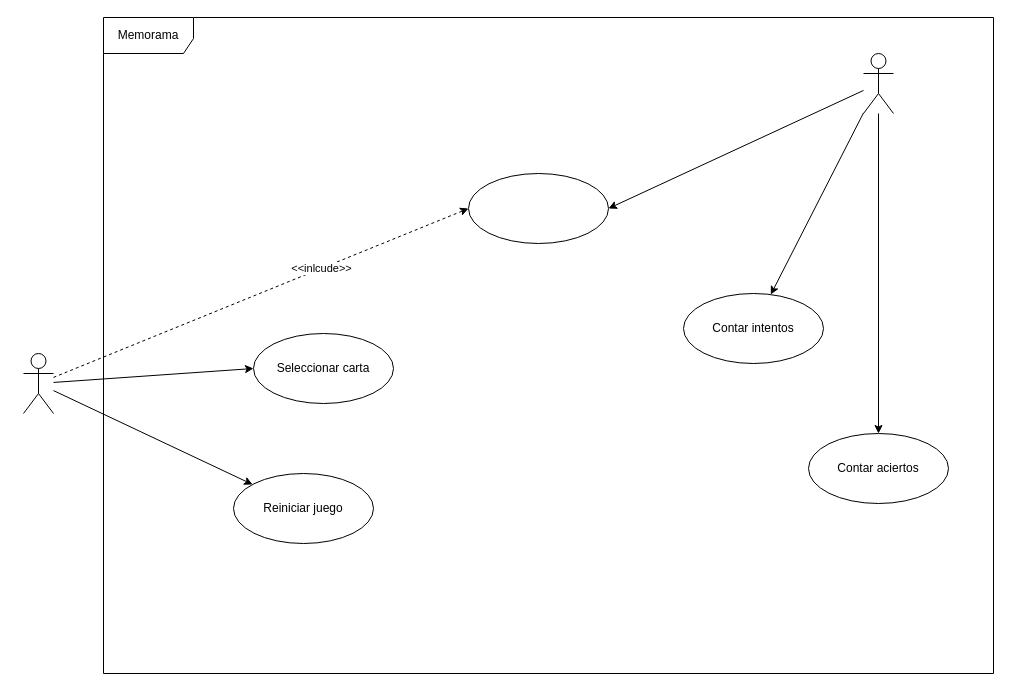
Some shapes in this 1011 by 691 pixel diagram are drawn without their labels. The centre of each missing label's shape, as x and y in pixels:
"Jugador" belongs at pixel 38 383.
"Reiniciar el Juego" belongs at pixel 538 208.
"SIstema" belongs at pixel 878 83.
